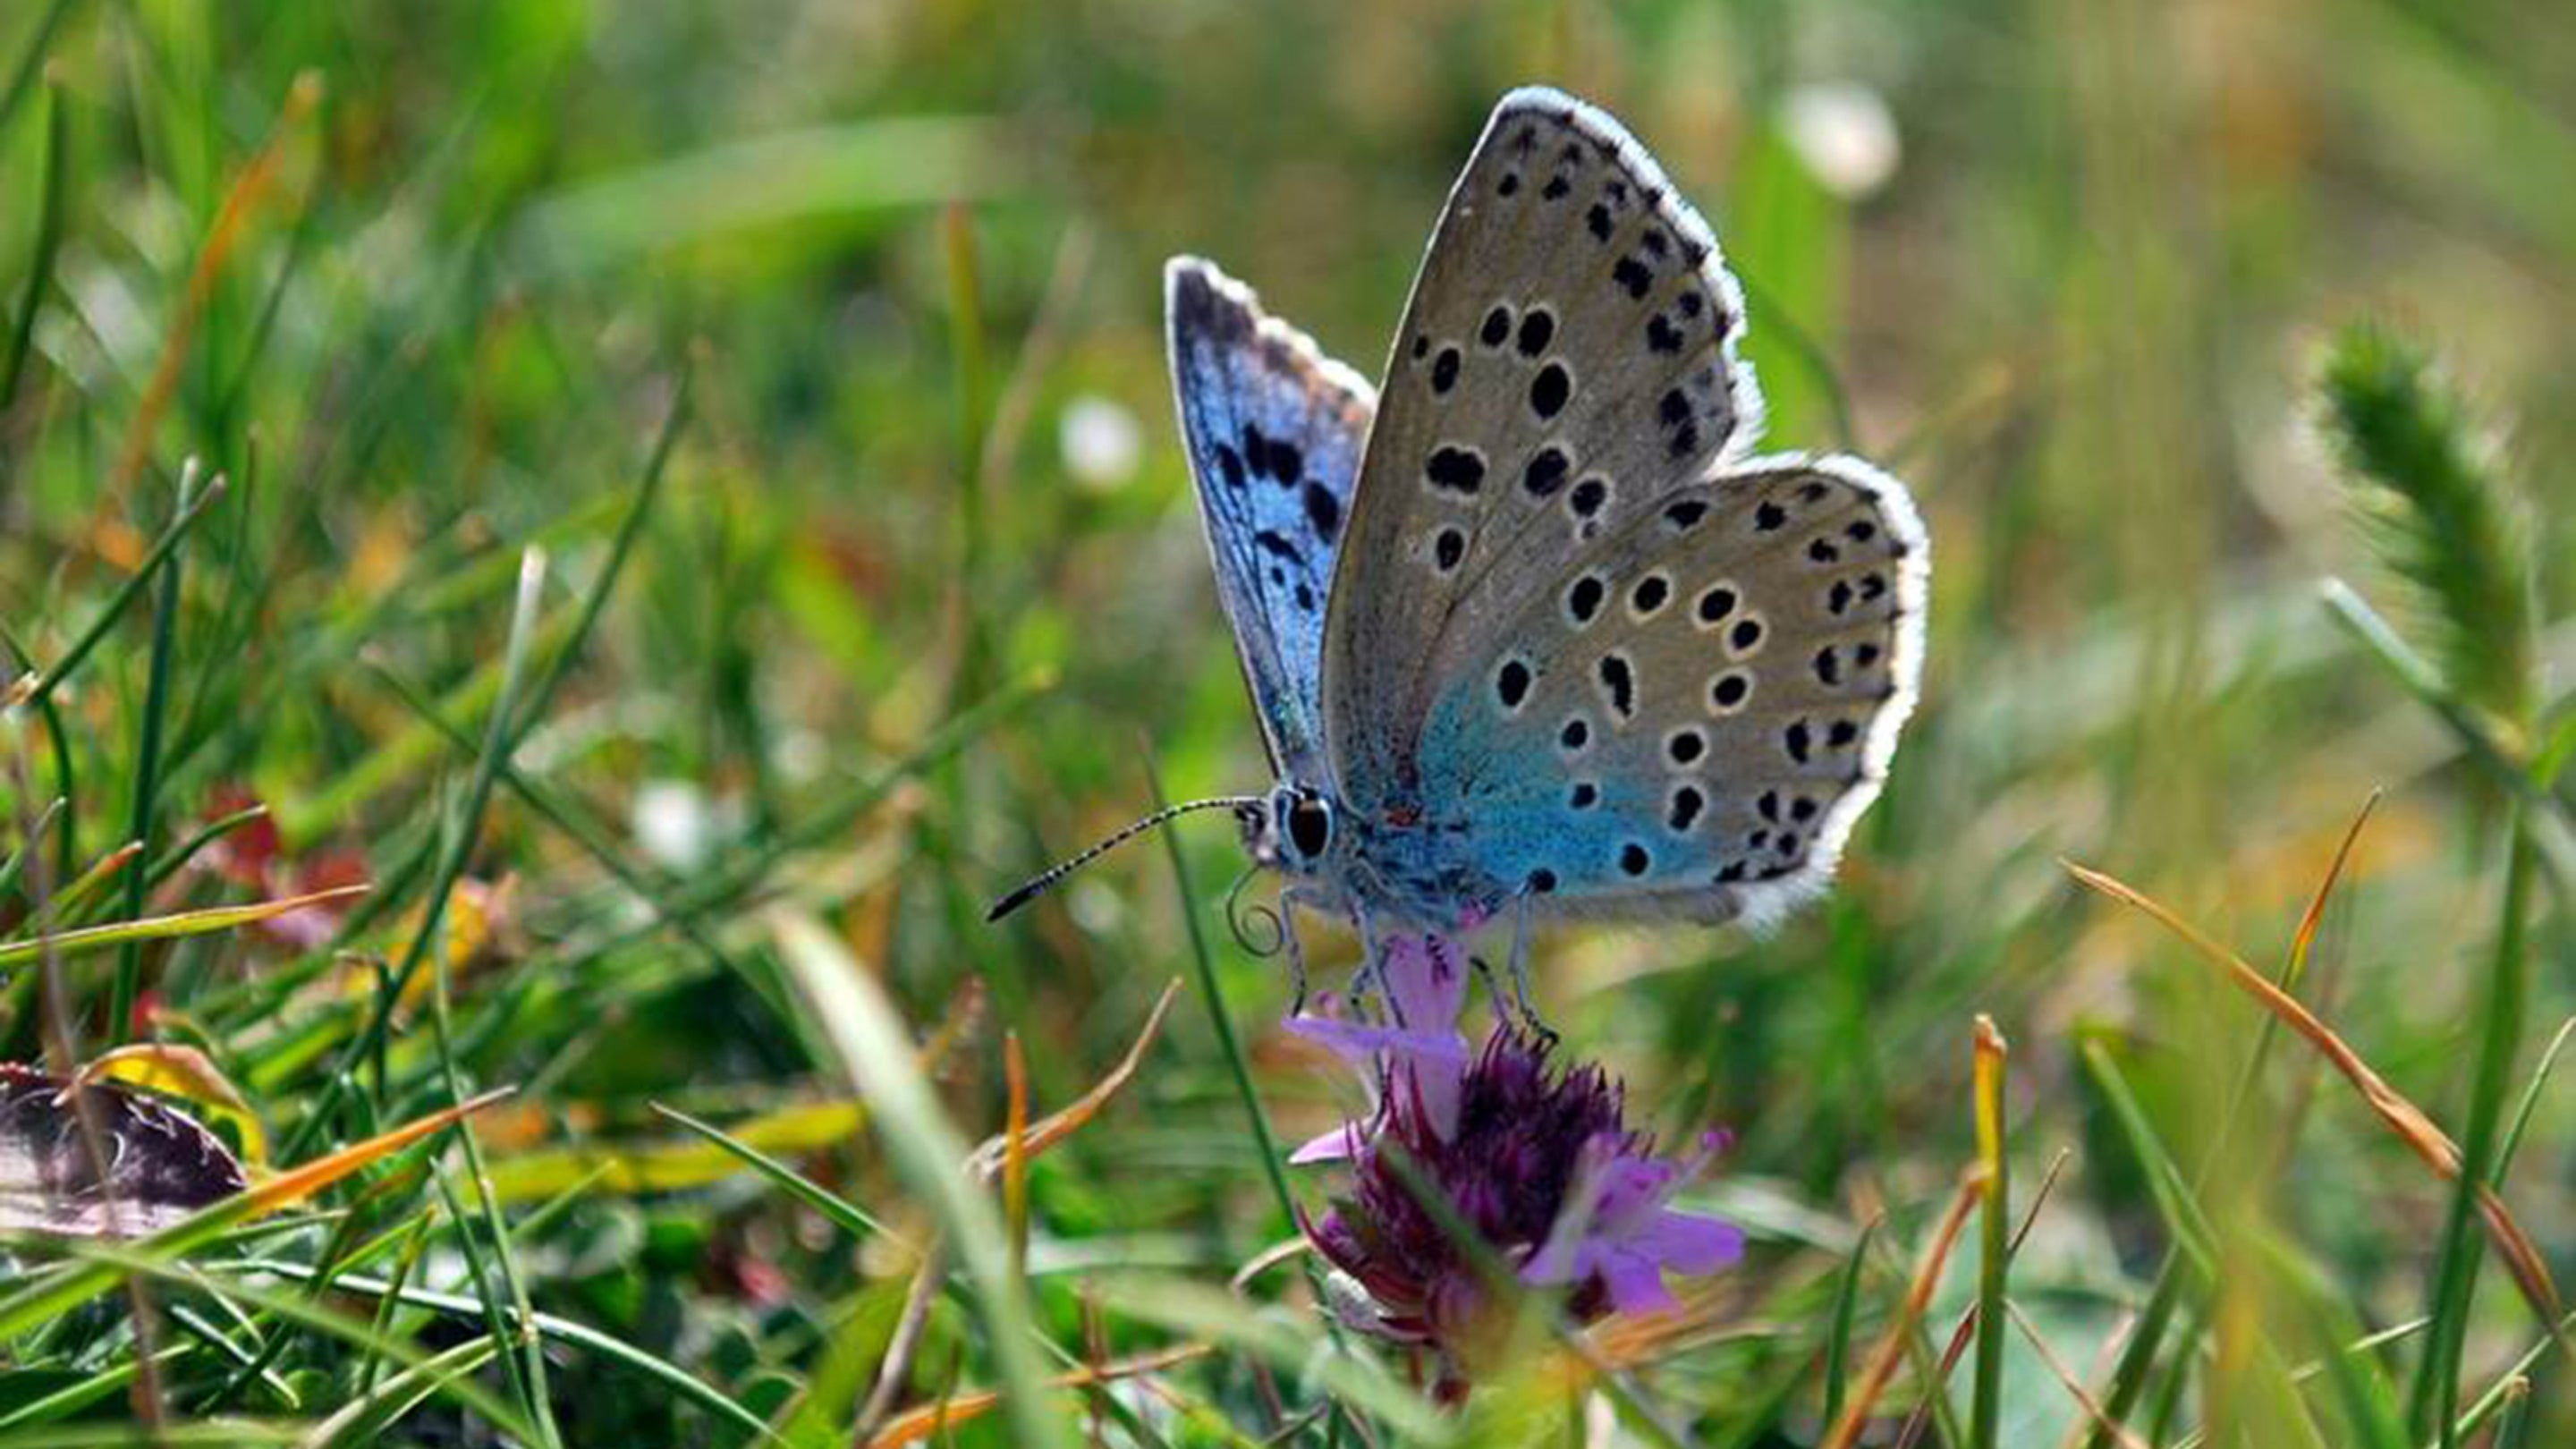Butterfly: (1138, 92, 1934, 938)
